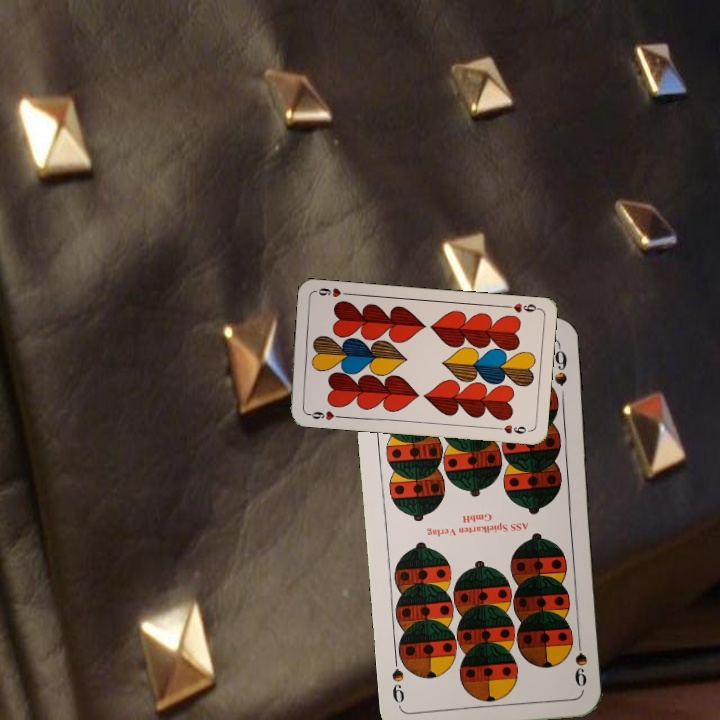H9: (501, 299, 541, 315), (303, 407, 343, 423)
S9: (571, 632, 590, 690)
